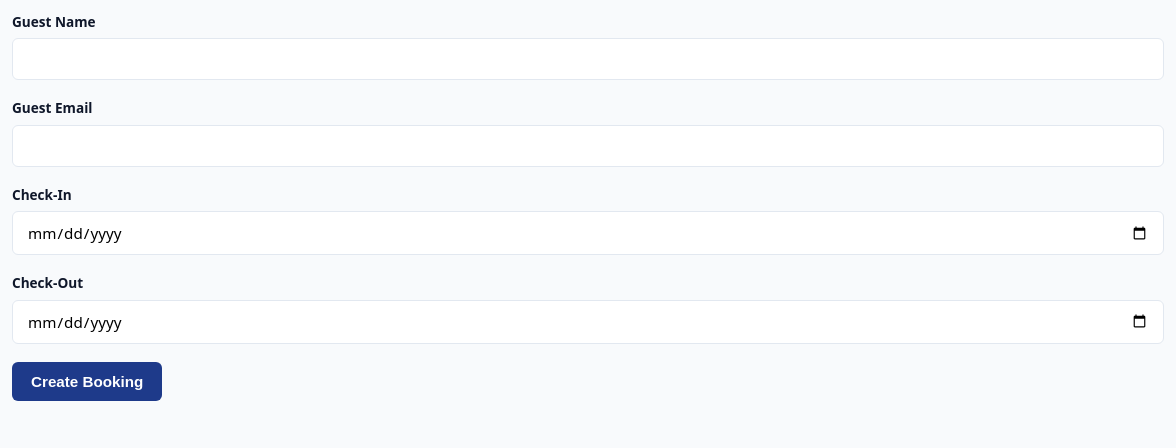
Test: BookingForm › shows error for invalid date order
The width and height of the screenshot is (1176, 448).
Step 1. Type "John" into the field labelled "Guest Name" → [588, 59], box [12,38,1164,80]
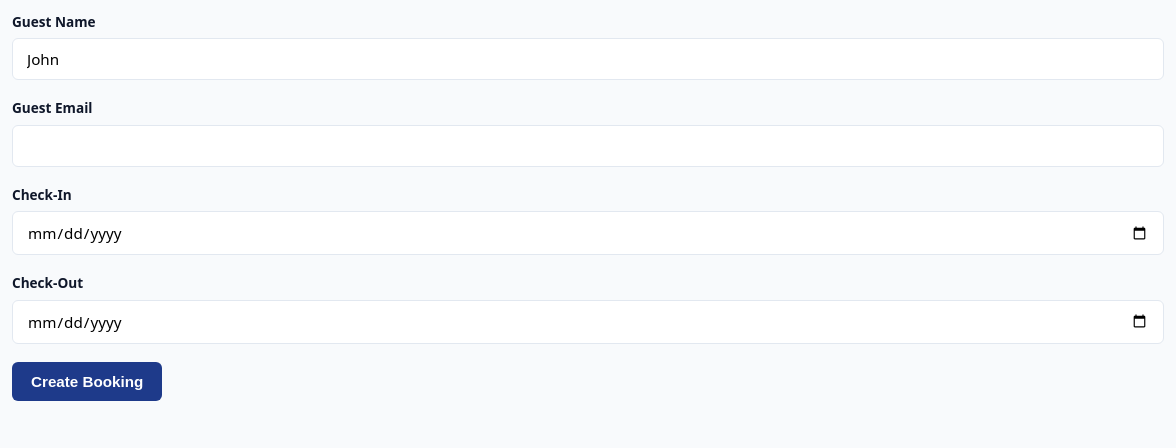
Step 2. Type "john@example.com" into the field labelled "Guest Email" → [588, 146], box [12,125,1164,167]
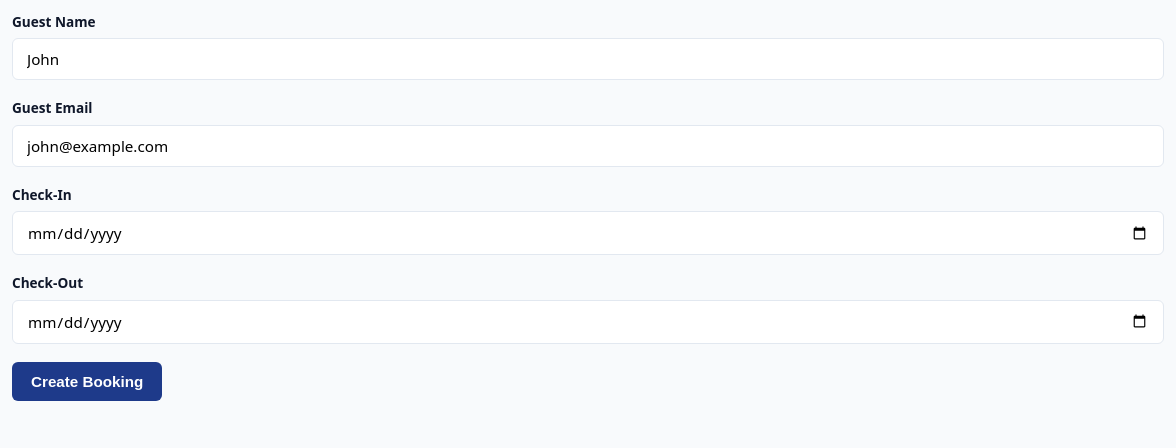
Step 3. Type "2023-01-10" into the date field labelled "Check-In" → [588, 233], box [12,211,1164,255]
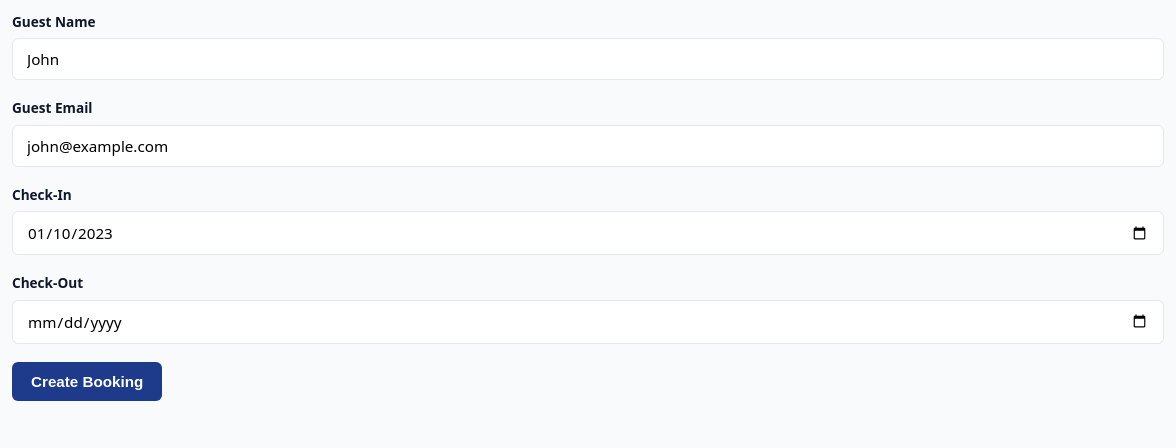
Step 4. Type "2023-01-05" into the date field labelled "Check-Out" → [588, 322], box [12,300,1164,344]
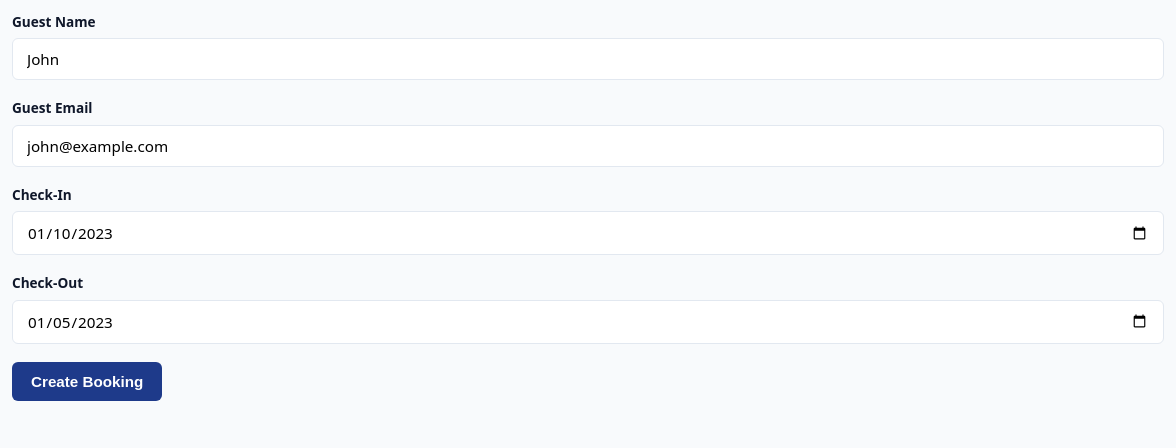
Step 5. Click the button "Create Booking" → [87, 381], box [12,362,162,401]
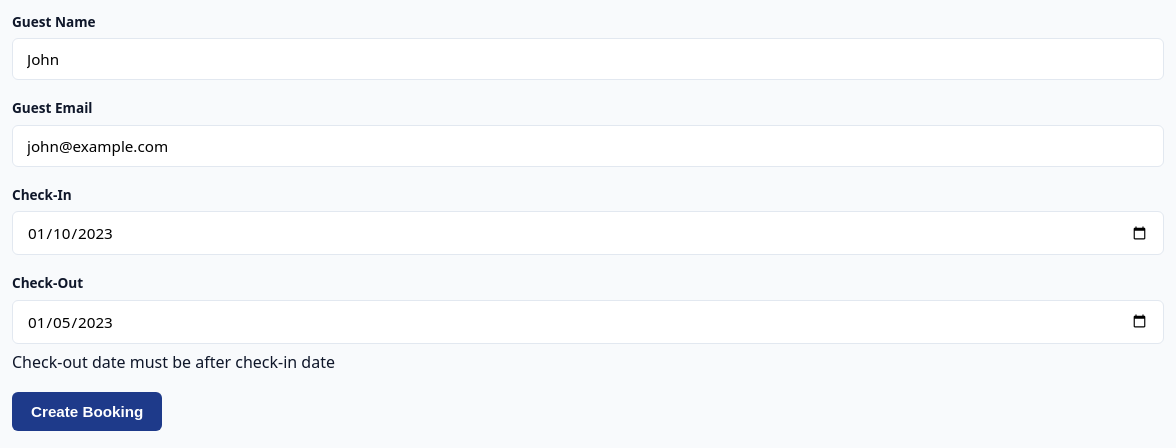
Expected: the text "Check-out date must be after check-in date" is shown, [12,351,335,373]
